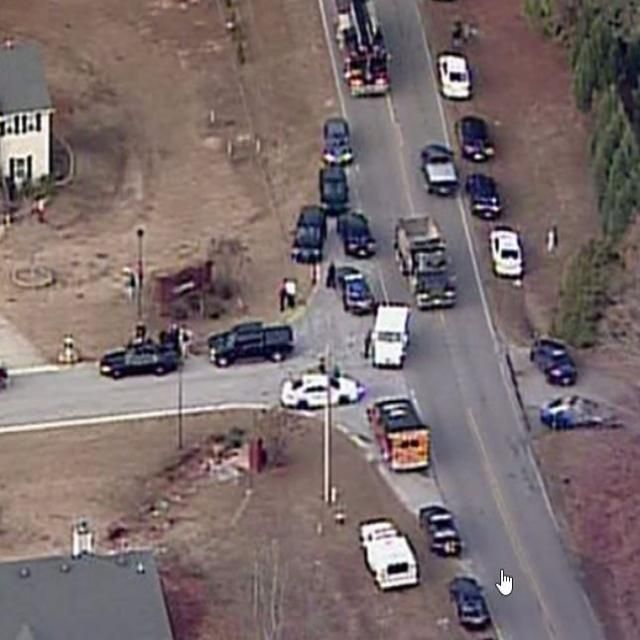traffic_incident: (542, 386, 615, 440)
